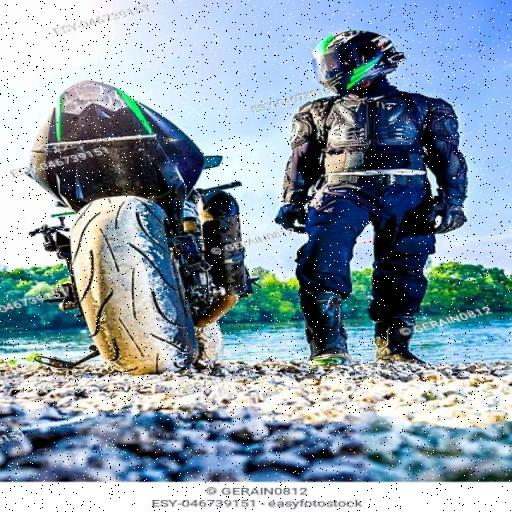Helmet: (312, 31, 404, 93)
Motor: (26, 81, 252, 391)
